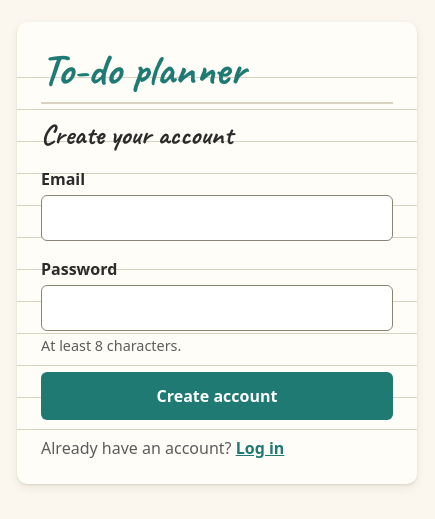
US1 Register › AC1.3 shows the server validation message under each field
The image size is (435, 519).
Type "nope" into the field labelled "Email".
click(217, 218); type("nope")  # box x1=41 y1=195 x2=393 y2=241
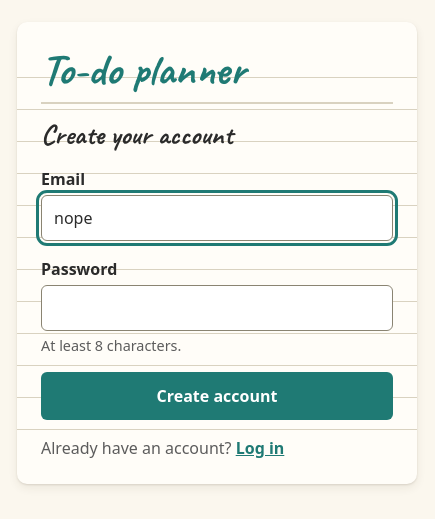
Type "short" into the password field labelled "Password".
click(217, 308); type("short")  # box x1=41 y1=285 x2=393 y2=331
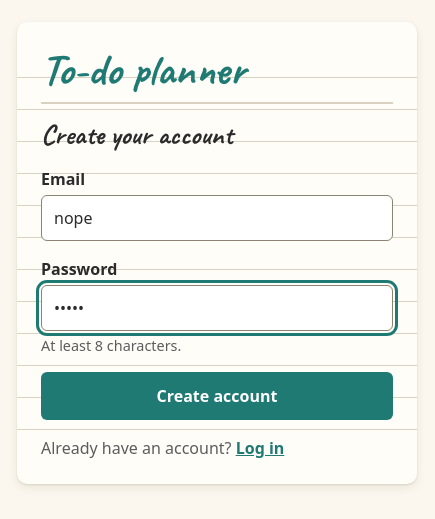
Click the button "Create account".
click(217, 396)  # box x1=41 y1=372 x2=393 y2=420
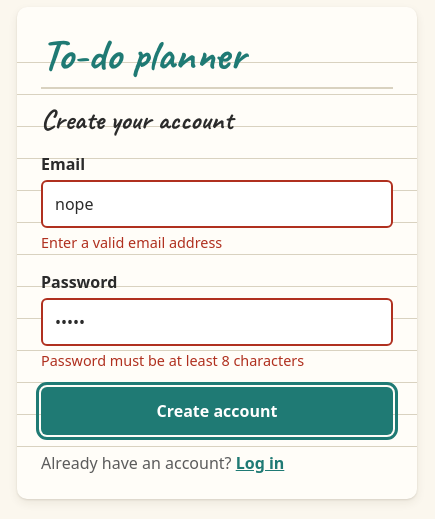
Check: the heading "Create your account" is shown, box x1=41 y1=102 x2=233 y2=137
Check: the text "Enter a valid email address" is shown, box x1=41 y1=233 x2=222 y2=252
Check: the text "Password must be at least 8 characters" is shown, box x1=41 y1=351 x2=304 y2=370
